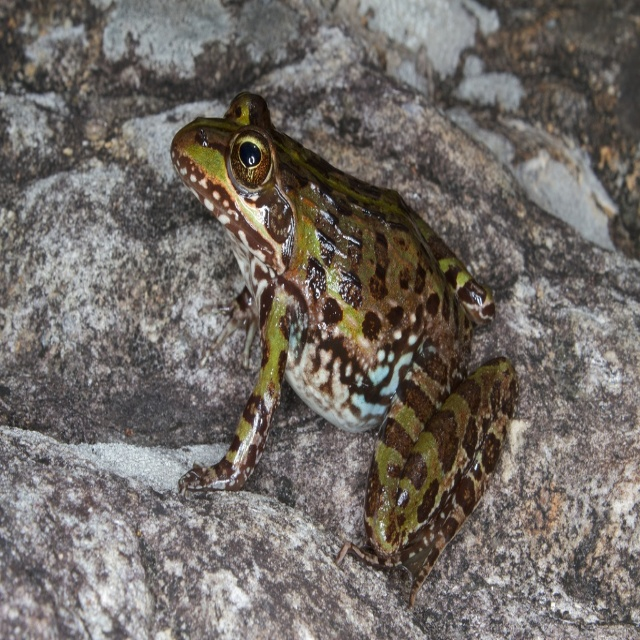Frog: (171, 89, 520, 611)
